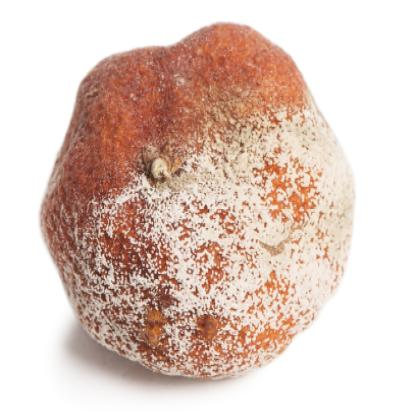rotten: (41, 19, 355, 380)
